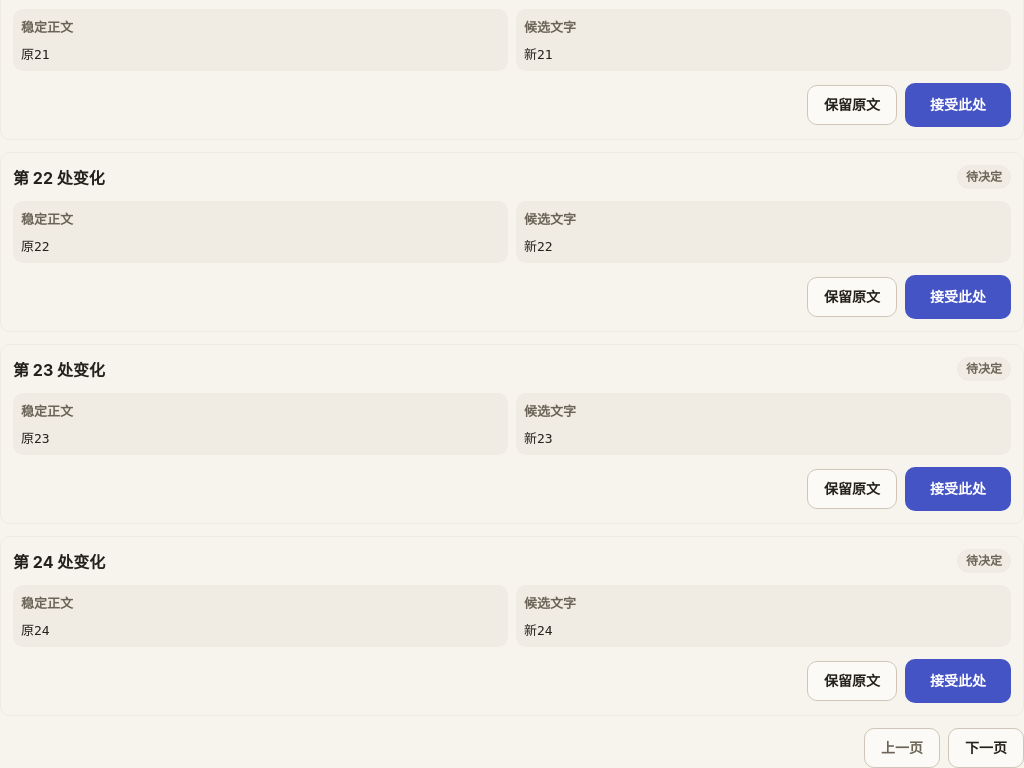
Test: CandidateDiffViewer › paginates a bounded number of rendered changes
(page scrolled)
Step 1. Click the button "下一页" → (986, 748), box [948,728,1023,767]
(page scrolled)
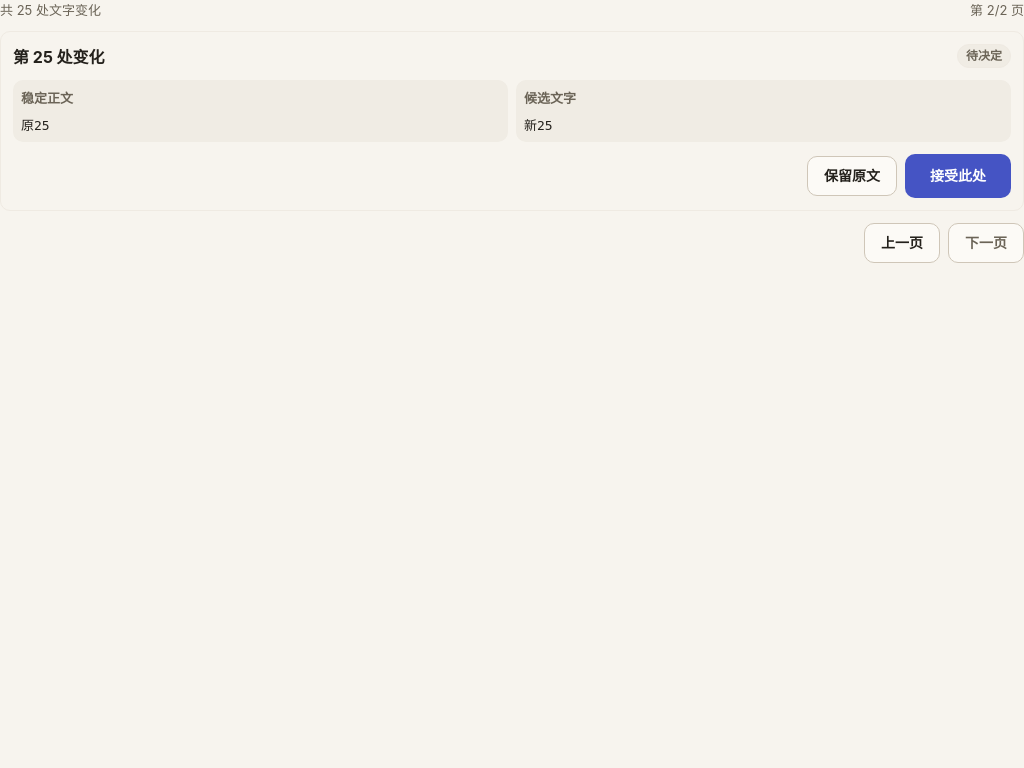
Result: the text "第 2/2 页" is shown at [970,0,1023,19]
Result: the number of buttons "接受此处" is 1 at [905,154,1011,198]
